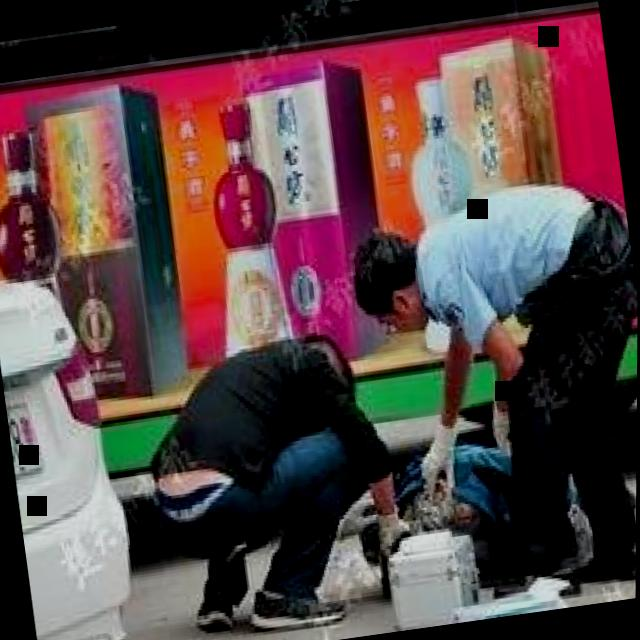Fall-Detected: (321, 387, 621, 620)
